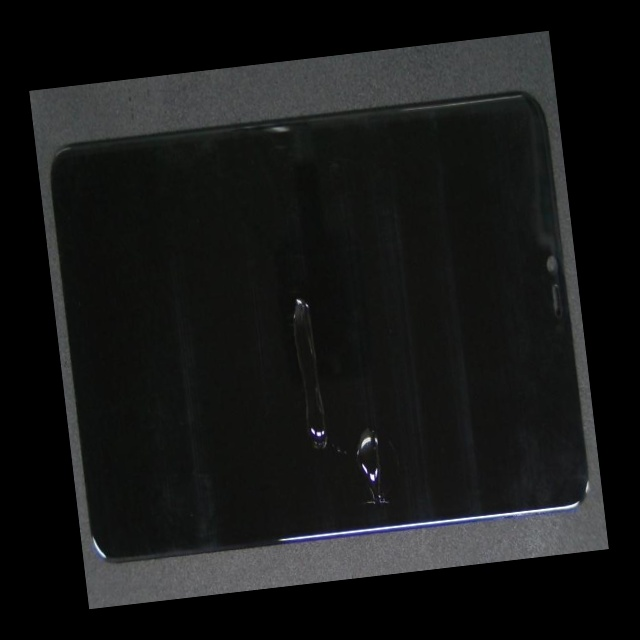oil: (216, 228, 549, 590), (187, 266, 480, 584)
